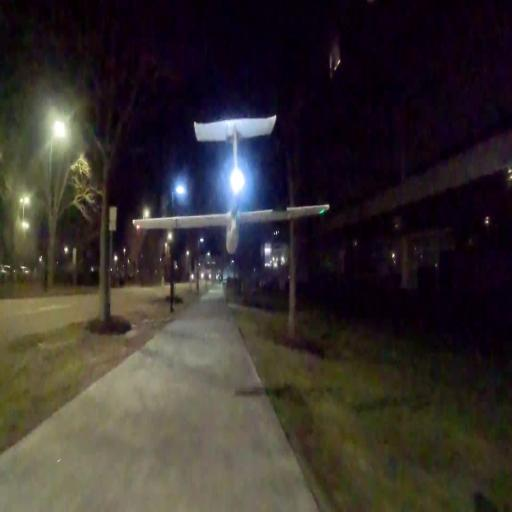uav: (128, 106, 333, 256)
